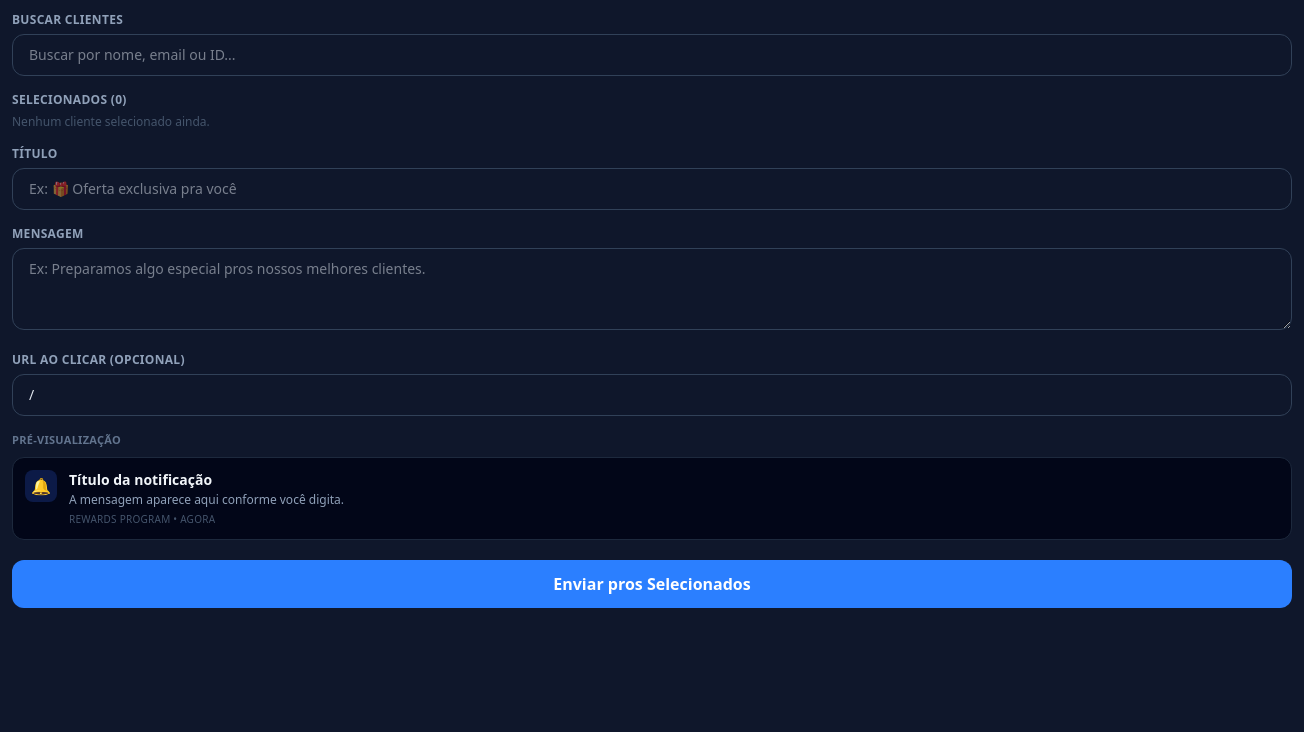
SelectedTab › mostra erro ao enviar sem nenhum cliente selecionado
Type "Oi" into the field with placeholder "Ex: 🎁 Oferta exclusiva pra você" at [652, 189], box [12, 168, 1292, 210]
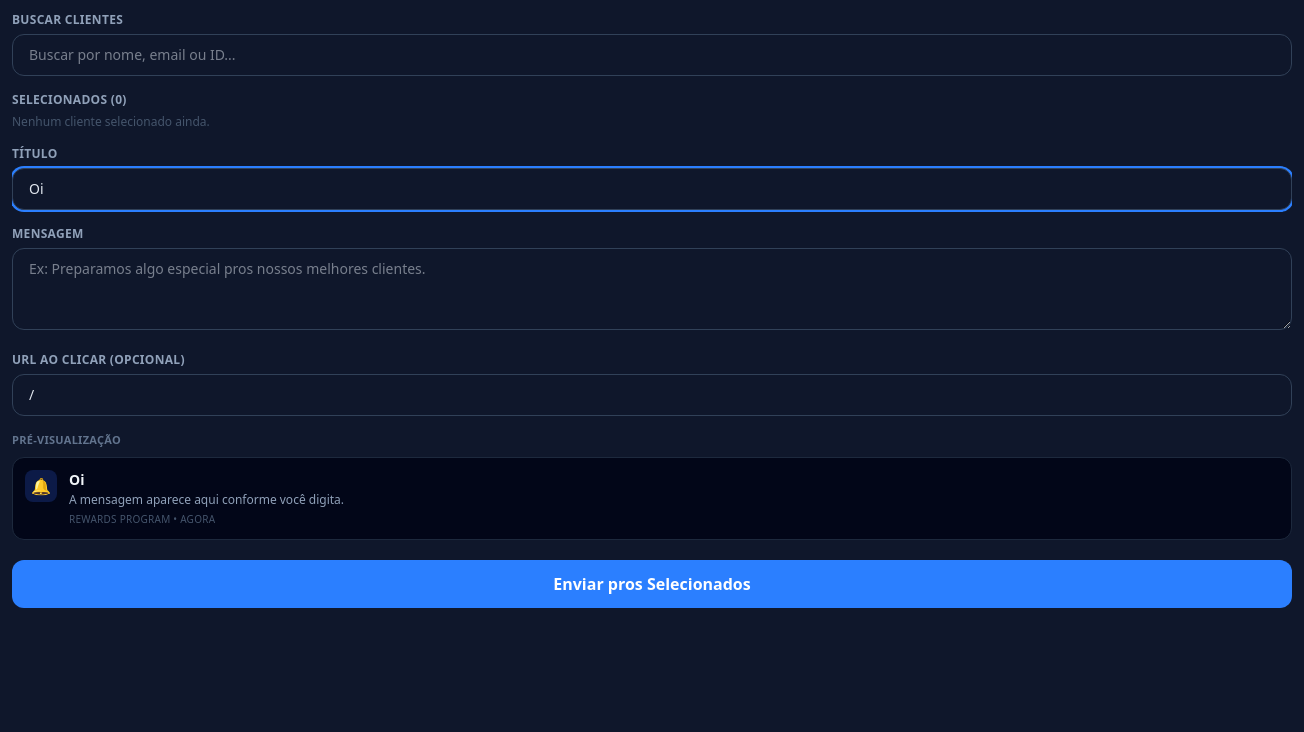
Type "msg" into the text box with placeholder "Ex: Preparamos algo especial pros nossos melhores clientes." at [652, 289], box [12, 248, 1292, 330]
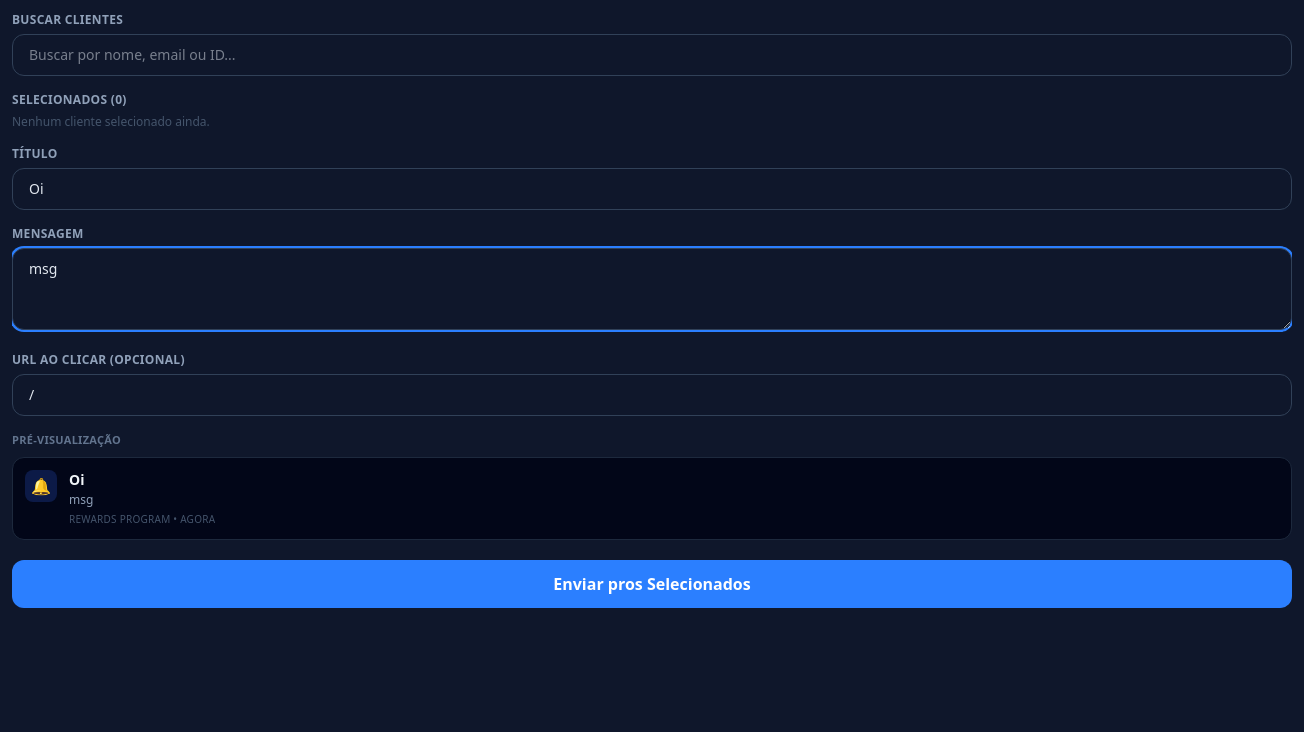
Click the button "Enviar pros Selecionados" at [652, 584], box [12, 560, 1292, 608]
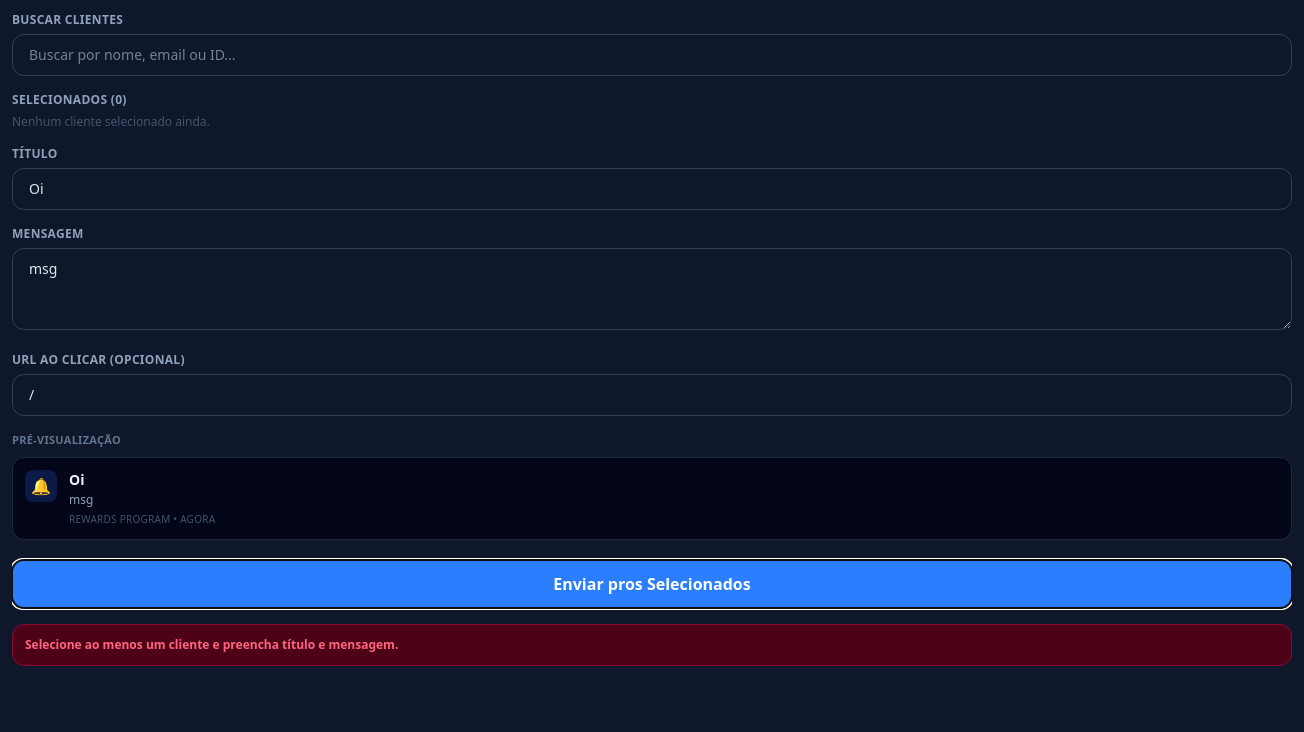
Check: the text "Selecione ao menos um cliente e preencha título e mensagem." is shown, box [12, 624, 1292, 666]
